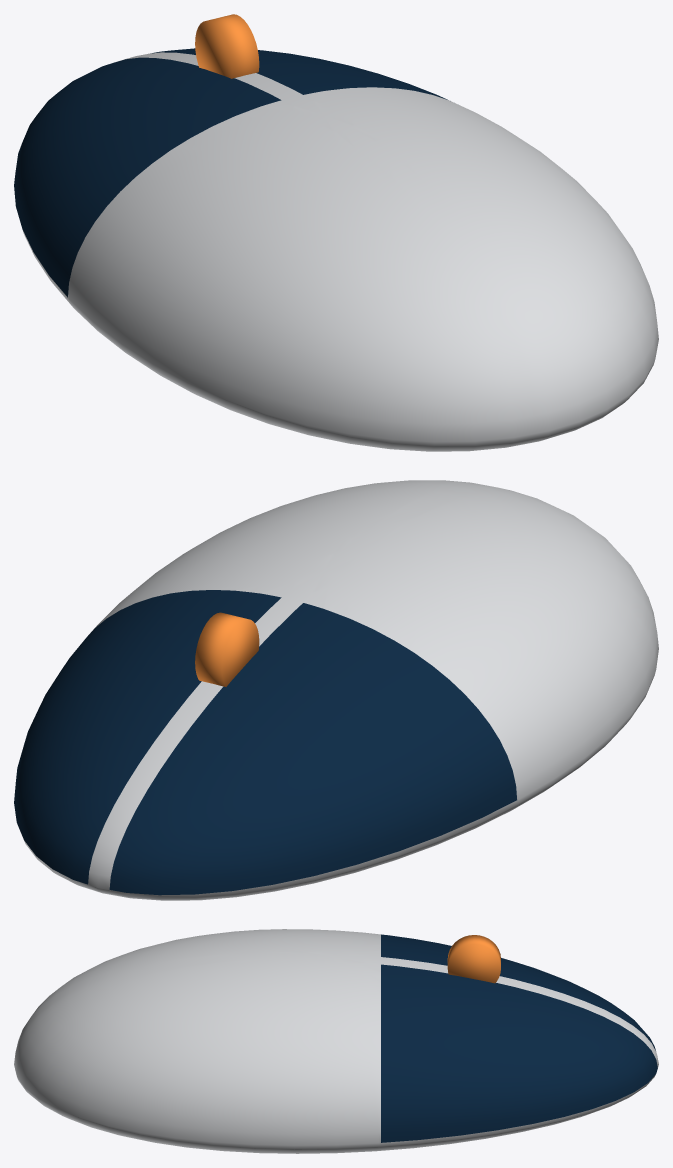
The model's file is webnest-mouse.glb.
3 views of the same model, one above another, from view 1: azimuth 30°, elevation 25°; view 2: azimuth 150°, elevation 25°; view 3: azimuth 270°, elevation 25° (orthographic). The views are drawn at different scales.
Parts seen in each view (by area): view 1: MS_body, MS_btnL, MS_btnR, MS_wheel; view 2: MS_body, MS_btnL, MS_btnR, MS_wheel; view 3: MS_body, MS_btnR, MS_btnL, MS_wheel.
Part boxes in pixels (x1,y1,x2,y2): MS_body: (22, 52, 658, 451); MS_btnL: (14, 57, 281, 297); MS_btnR: (150, 48, 447, 99); MS_wheel: (195, 14, 259, 78); MS_body: (17, 480, 658, 900); MS_btnL: (109, 603, 516, 895); MS_btnR: (14, 590, 281, 884); MS_wheel: (195, 612, 259, 686); MS_body: (14, 929, 658, 1153); MS_btnR: (381, 964, 657, 1142); MS_btnL: (381, 934, 655, 1050); MS_wheel: (447, 935, 500, 983).
Size of the model in its own units: 1.72 by 0.8088 by 2.9.
